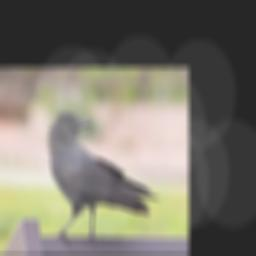Crow: (46, 111, 160, 246)
